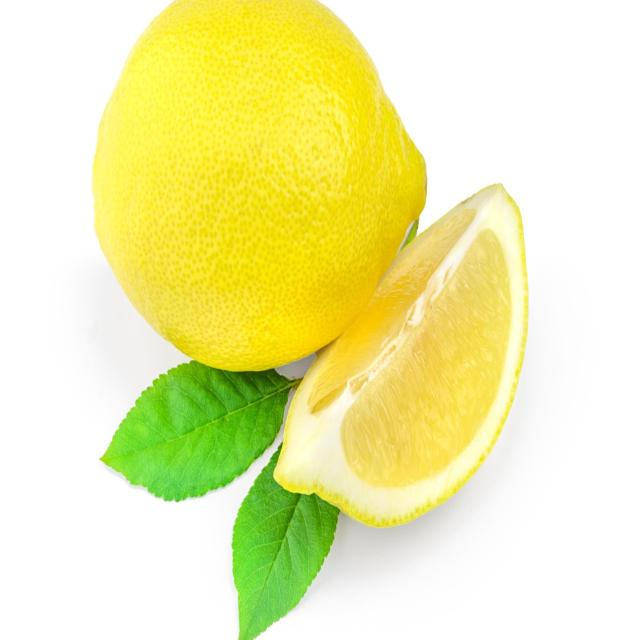lemon: (85, 0, 432, 409), (269, 175, 534, 536)
